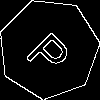P: (23, 23, 79, 79)
